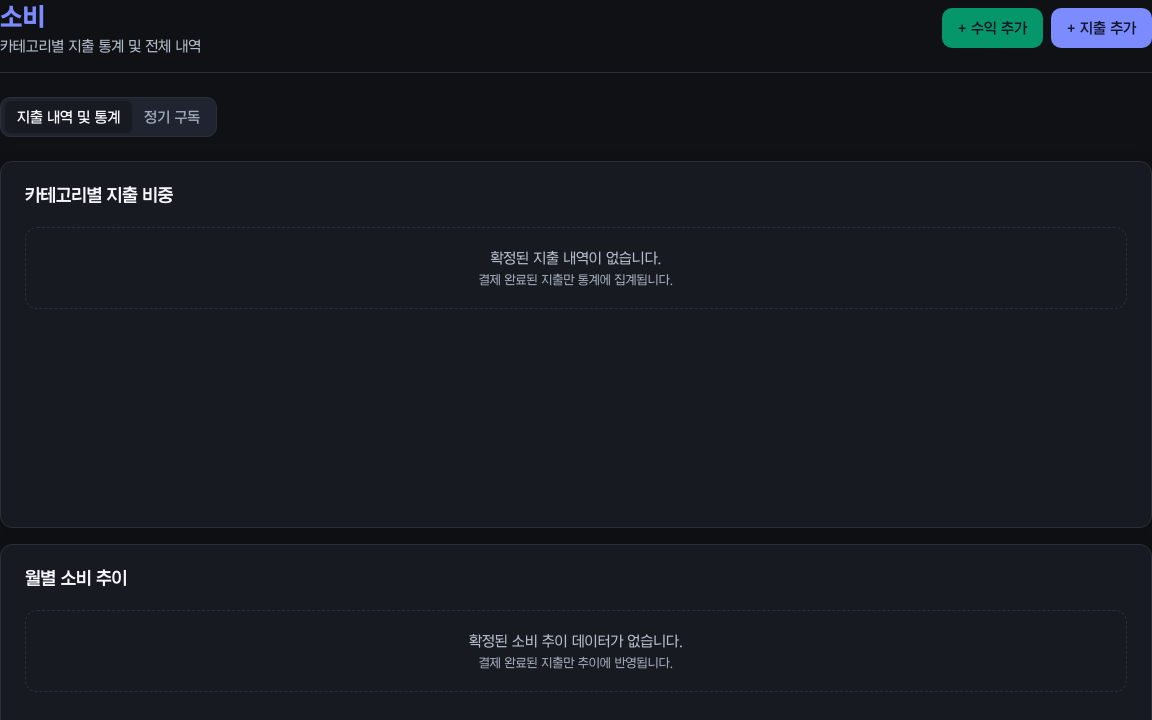
Scenario: ExpensesPage › 12개를 초과하는 정기 구독은 12개 단위 페이지네이션이 적용되고 2페이지로 이동할 수 있다
Click the tab "정기 구독" at (172, 117), box [132,101,212,133]
(page scrolled)
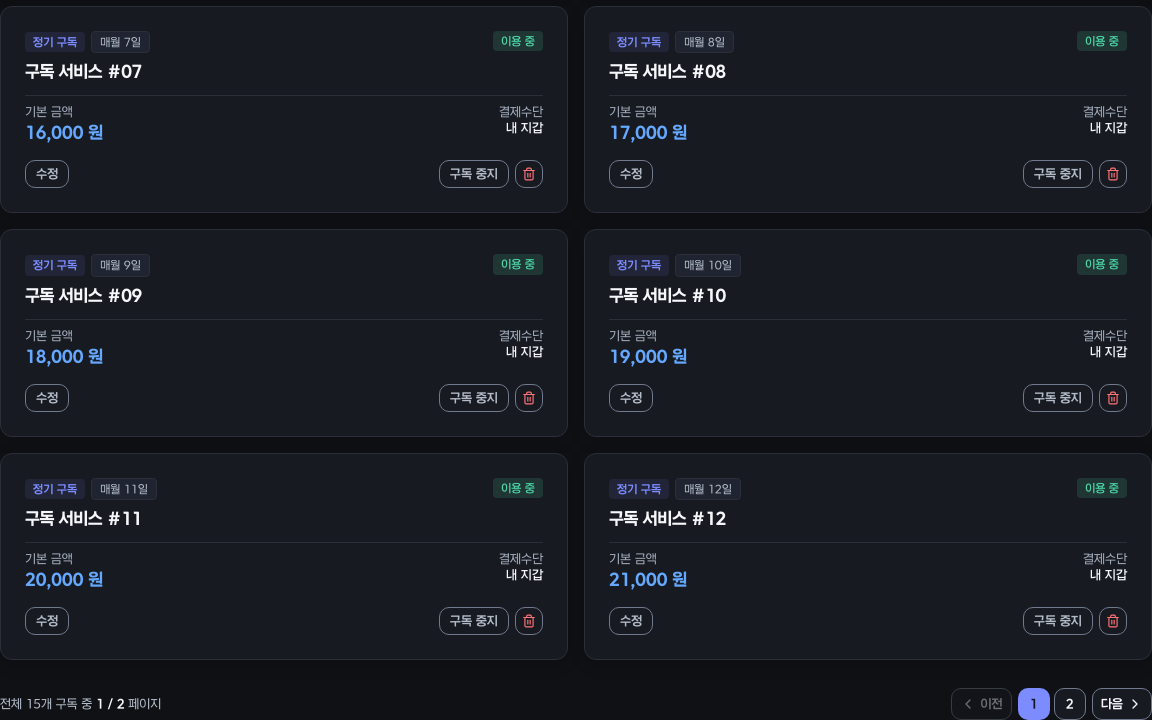
Expected: the text "구독 서비스 #13" is not shown
Expected: the text "구독 서비스 #12" is shown, [609,506,726,530]
Expected: the text "1 / 2" is shown, [96,696,125,711]
// 2페이지 버튼 클릭
Click the button named "2 페이지로 이동" at (1070, 704), box [1054,688,1086,719]
(page scrolled)
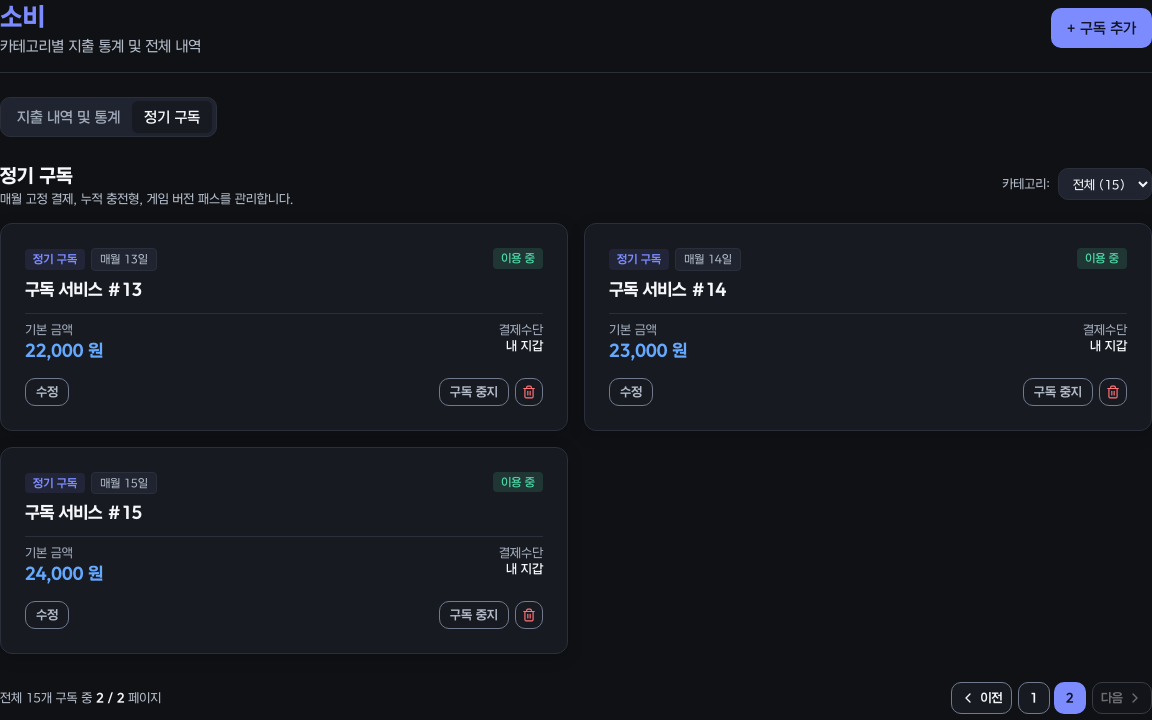
Expected: the text "구독 서비스 #13" is shown, [25,276,142,300]
Expected: the text "구독 서비스 #15" is shown, [25,500,142,524]
